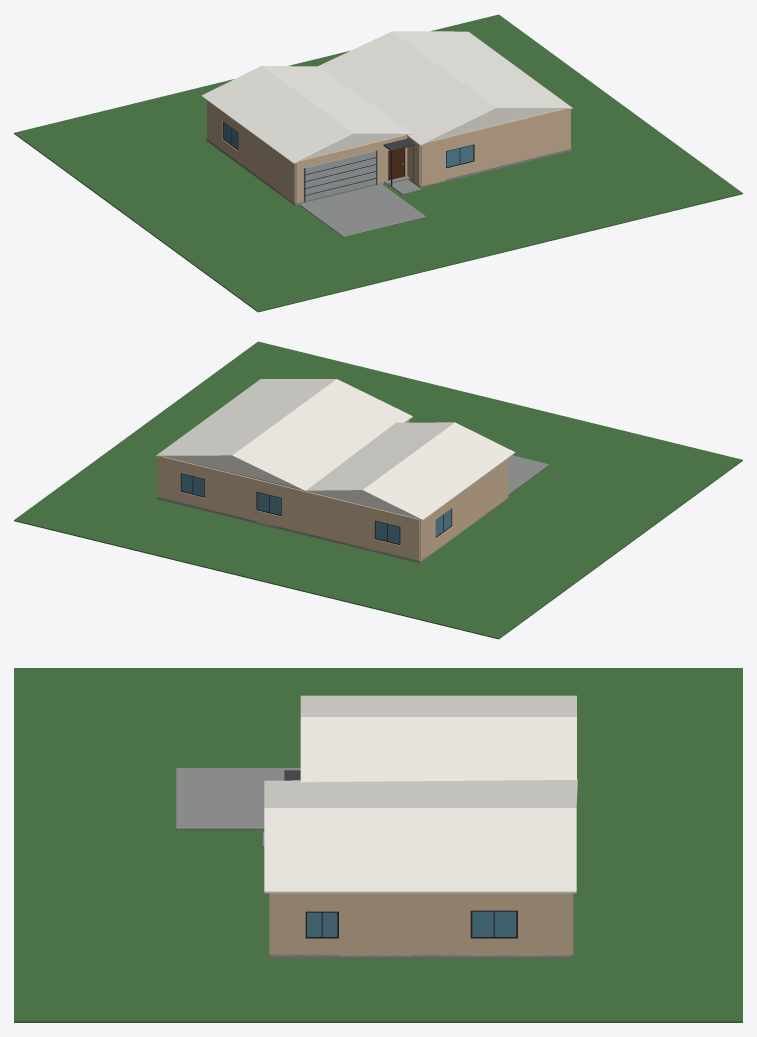
The model's file is mchouse.fbx.
The picture shows the model from 3 angles, top to bottom: view 1: azimuth 30°, elevation 25°; view 2: azimuth 150°, elevation 25°; view 3: azimuth 270°, elevation 25°; orthographic projection. The views are drawn at different scales.
Parts seen in each view (by area): view 1: Lawn, Right wing ceiling.001, Right wing ceiling.002, Right south exterior section 3, Garage driveway, Sectional garage door, West exterior section 0, Right south exterior section 0, Living ceiling.001, Garage and entry facade lintel 1, Living ceiling.003, West exterior section 3 (+1 smaller); view 2: Lawn, Right wing ceiling.001, Right wing ceiling.002, North exterior section 3, West exterior section 0, North exterior section 6, Living ceiling.002, North exterior section 9, Garage driveway, Living ceiling.004, North exterior section 0, West exterior section 3; view 3: Lawn, Right wing ceiling.001, Right wing ceiling.002, East exterior section 3, Garage driveway, East exterior section 6, East exterior section 0, Bedroom two east window glass, Right wing foundation, East exterior sill 4, East exterior lintel 5, Bathroom east window glass (+2 smaller).
Part boxes in pixels (bbox=[...]): Lawn: bbox=[14, 14, 742, 312]; Right wing ceiling.001: bbox=[318, 31, 572, 145]; Right wing ceiling.002: bbox=[201, 65, 412, 163]; Right south exterior section 3: bbox=[474, 109, 570, 172]; Garage driveway: bbox=[299, 184, 425, 237]; Sectional garage door: bbox=[303, 150, 377, 201]; West exterior section 0: bbox=[238, 124, 295, 203]; Right south exterior section 0: bbox=[420, 138, 445, 186]; Living ceiling.001: bbox=[434, 109, 559, 139]; Garage and entry facade lintel 1: bbox=[303, 141, 377, 168]; Living ceiling.003: bbox=[307, 134, 402, 157]; West exterior section 3: bbox=[207, 101, 222, 149]; Lawn: bbox=[14, 341, 742, 639]; Right wing ceiling.001: bbox=[156, 379, 412, 491]; Right wing ceiling.002: bbox=[306, 422, 515, 520]; North exterior section 3: bbox=[282, 486, 374, 550]; West exterior section 0: bbox=[451, 458, 508, 538]; North exterior section 6: bbox=[205, 467, 256, 520]; Living ceiling.002: bbox=[166, 456, 301, 490]; North exterior section 9: bbox=[157, 456, 180, 502]; Garage driveway: bbox=[508, 455, 548, 494]; Living ceiling.004: bbox=[308, 491, 424, 520]; North exterior section 0: bbox=[400, 514, 419, 560]; West exterior section 3: bbox=[419, 511, 435, 560]; Lawn: bbox=[14, 668, 742, 1022]; Right wing ceiling.001: bbox=[264, 779, 577, 893]; Right wing ceiling.002: bbox=[300, 695, 576, 782]; East exterior section 3: bbox=[339, 893, 470, 956]; Garage driveway: bbox=[176, 768, 300, 829]; East exterior section 6: bbox=[518, 893, 571, 956]; East exterior section 0: bbox=[271, 893, 305, 956]; Bedroom two east window glass: bbox=[472, 911, 516, 936]; Right wing foundation: bbox=[269, 954, 573, 958]; East exterior sill 4: bbox=[470, 938, 517, 956]; East exterior lintel 5: bbox=[470, 893, 517, 910]; Bathroom east window glass: bbox=[307, 912, 337, 936].
Bounding box in the file's own units: 39 × 4.96 × 34.
